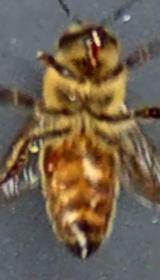varroa_mite: (36, 140, 63, 188)
